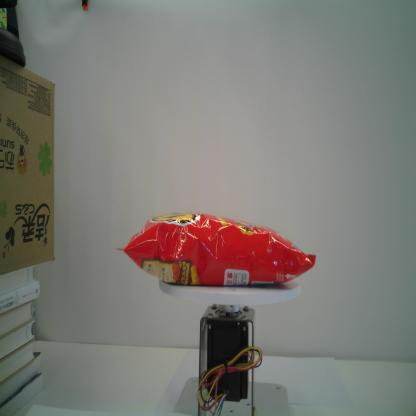Puffed Food: (115, 211, 318, 288)
